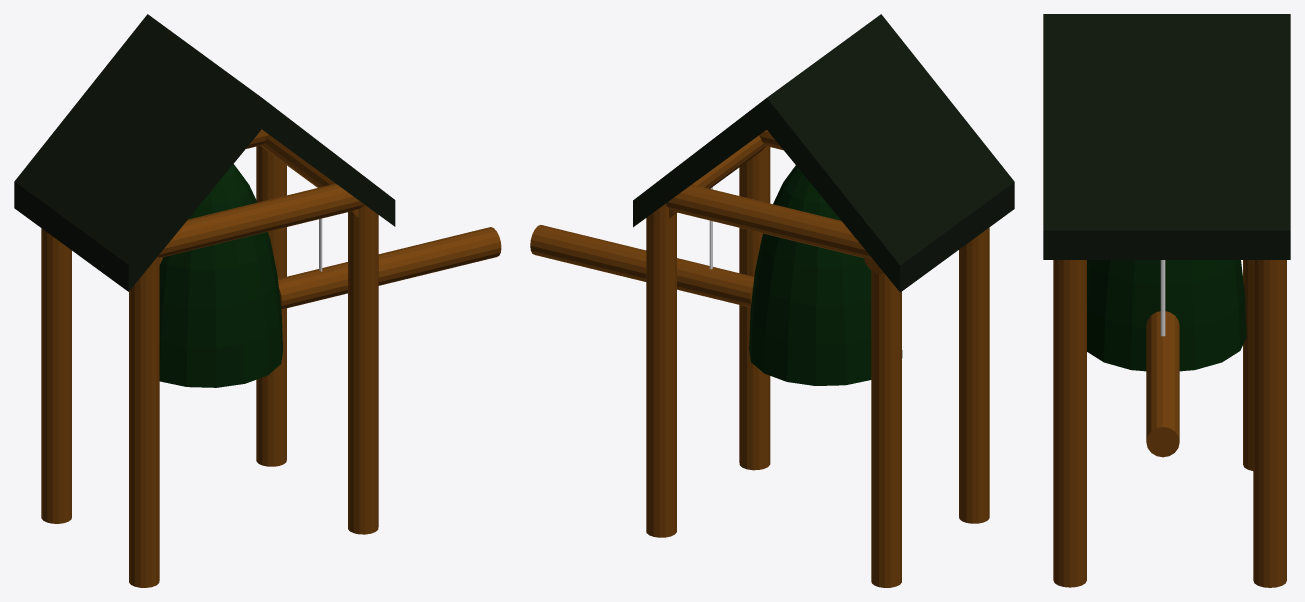
3 renders of one model, left to right at view 1: azimuth 30°, elevation 25°; view 2: azimuth 150°, elevation 25°; view 3: azimuth 270°, elevation 25°, orthographic. The views are drawn at different scales.
Parts seen in each view (by area): view 1: 立方体, 球, 円柱.002, 円柱.001, 円柱.004, 円柱.009, 円柱.007, 円柱.003, 円柱.005; view 2: 立方体, 球, 円柱.003, 円柱.004, 円柱.001, 円柱.002, 円柱.009, 円柱.006, 円柱.005; view 3: 立方体, 球, 円柱.003, 円柱.002, 円柱.009, 円柱.004, 円柱.010.
Part boxes in pixels (left/top/right/bottom): 立方体: left=14, top=14, right=395, bottom=291; 球: left=159, top=164, right=282, bottom=387; 円柱.002: left=348, top=205, right=378, bottom=534; 円柱.001: left=129, top=256, right=159, bottom=587; 円柱.004: left=41, top=228, right=71, bottom=523; 円柱.009: left=278, top=227, right=501, bottom=309; 円柱.007: left=158, top=183, right=364, bottom=257; 円柱.003: left=256, top=145, right=286, bottom=466; 円柱.005: left=261, top=135, right=358, bottom=217; 立方体: left=633, top=14, right=1014, bottom=292; 球: left=749, top=165, right=902, bottom=385; 円柱.003: left=646, top=203, right=676, bottom=537; 円柱.004: left=871, top=270, right=901, bottom=587; 円柱.001: left=959, top=227, right=989, bottom=523; 円柱.002: left=739, top=146, right=770, bottom=470; 円柱.009: left=530, top=225, right=754, bottom=307; 円柱.006: left=666, top=184, right=871, bottom=258; 円柱.005: left=669, top=135, right=766, bottom=218; 立方体: left=1043, top=14, right=1290, bottom=259; 球: left=1087, top=260, right=1246, bottom=371; 円柱.003: left=1253, top=260, right=1286, bottom=587; 円柱.002: left=1053, top=260, right=1086, bottom=587; 円柱.009: left=1146, top=311, right=1179, bottom=457; 円柱.004: left=1243, top=260, right=1253, bottom=470; 円柱.010: left=1160, top=260, right=1165, bottom=336.
Size of the model in its own units: 629 by 668 by 296.
